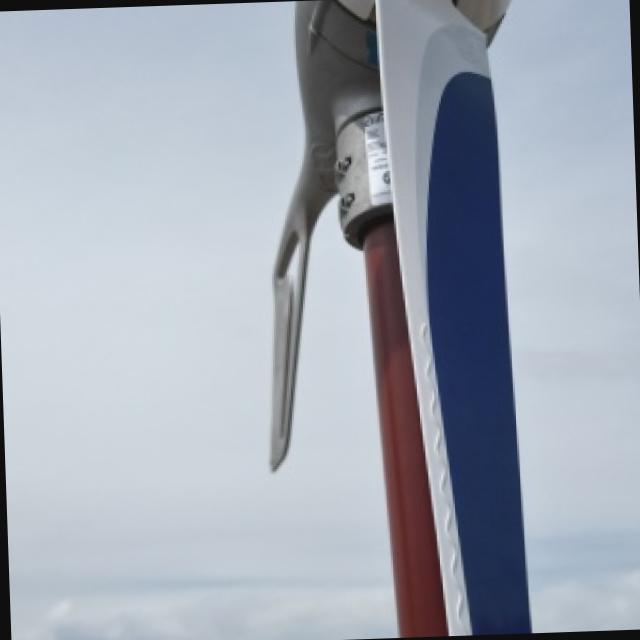healthy: (267, 0, 529, 635)
